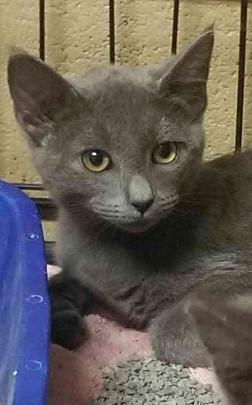rblue: (1, 8, 236, 257)
